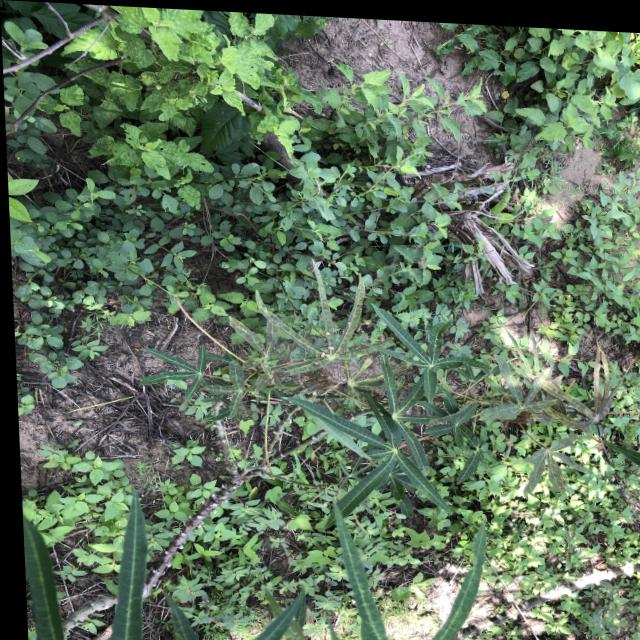Maleza: (15, 16, 293, 199), (0, 177, 280, 292), (304, 68, 478, 238), (487, 11, 618, 167)
Mosca: (317, 318, 338, 352), (309, 348, 331, 370)
